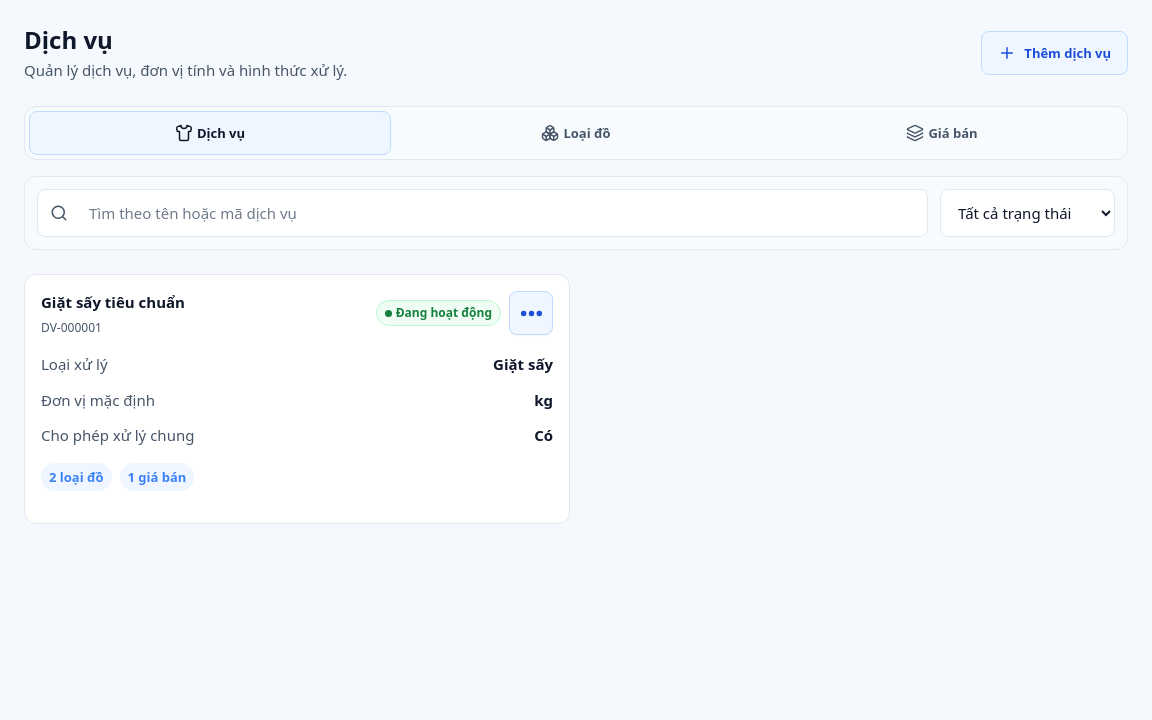
Test: ServiceCatalogPage › uses the shared row action menu for permitted service actions
Click the button named "Mở menu" at (531, 313), box [509, 291, 553, 335]
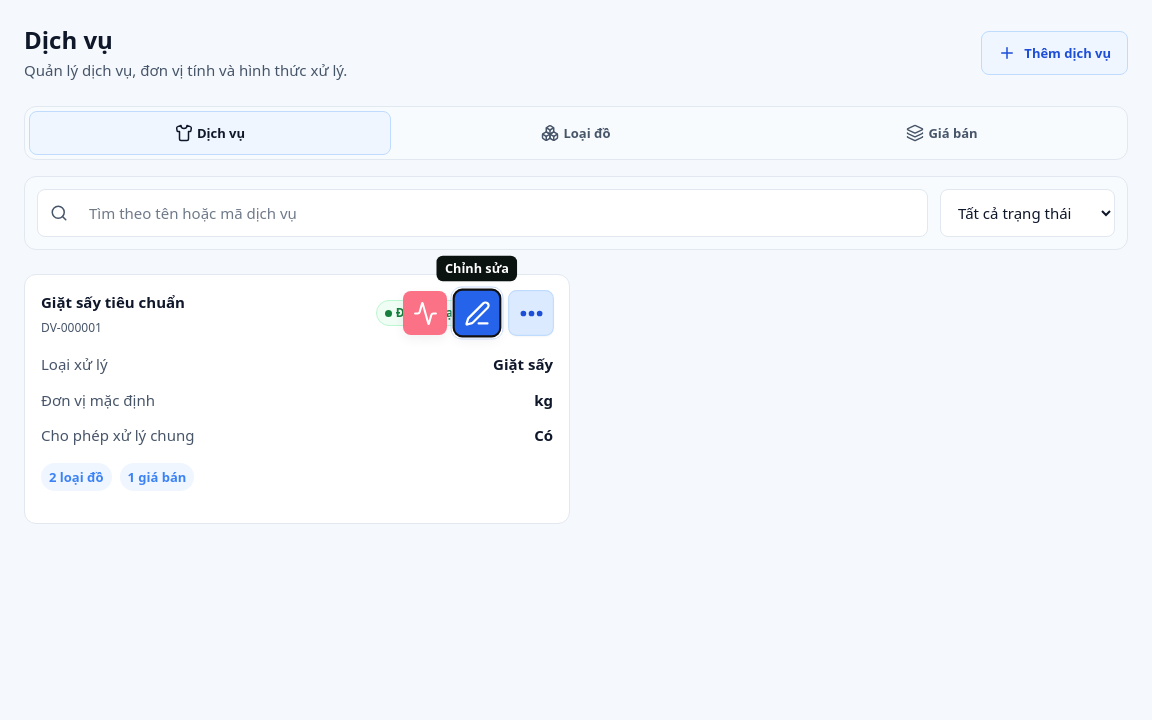
Now the menu item "Chỉnh sửa" is shown, box [454, 290, 500, 337]
Now the menu item named "Ngừng hoạt động" is shown, box [403, 291, 447, 335]
